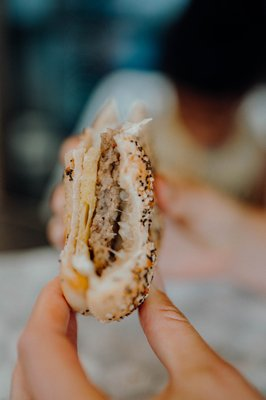burger: (51, 120, 164, 323)
